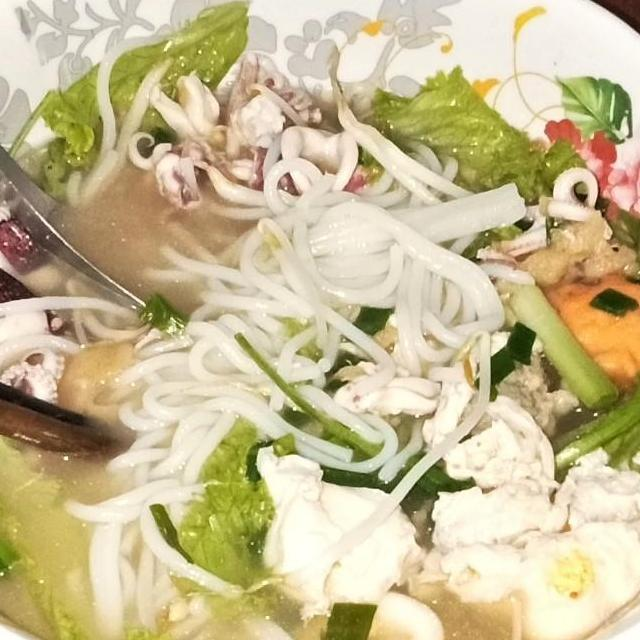bun: (56, 271, 415, 640), (132, 136, 542, 396)
muc: (110, 54, 380, 216), (468, 162, 626, 271), (0, 234, 81, 421), (285, 584, 454, 640), (0, 203, 54, 287)
trung: (325, 358, 640, 640), (242, 441, 430, 629)
